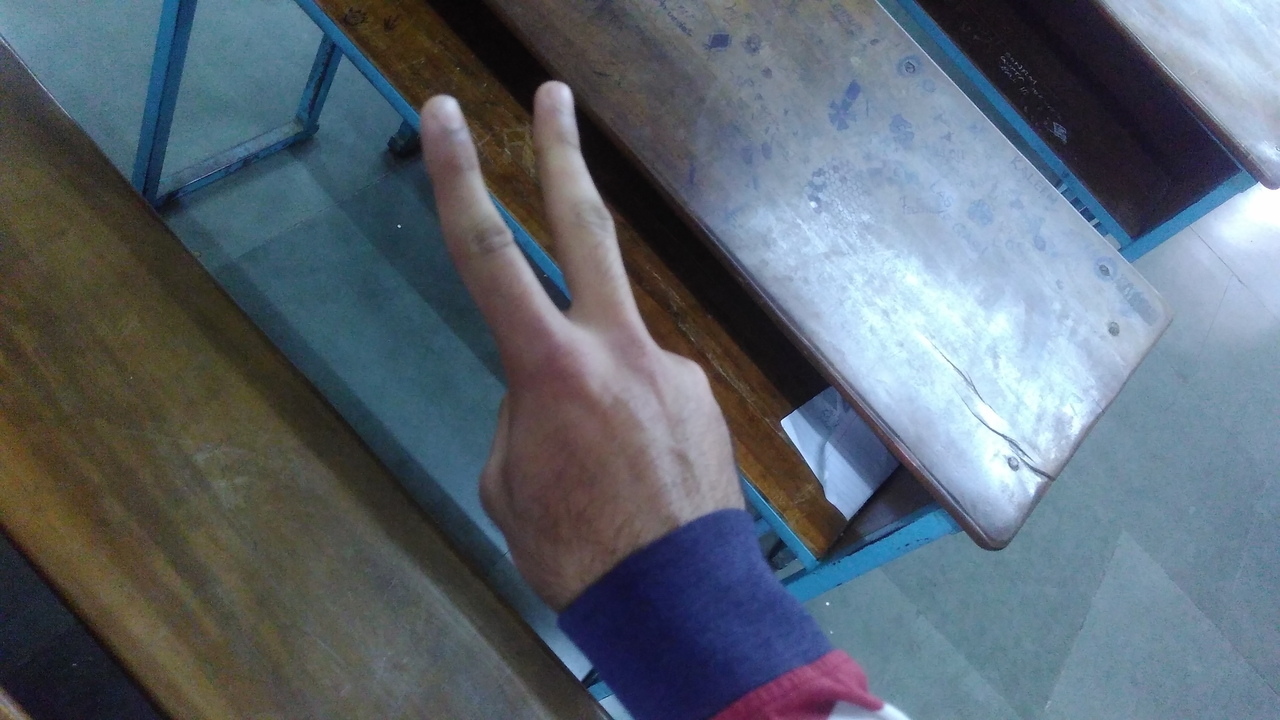fingertip: (406, 86, 472, 144), (524, 76, 582, 122)
